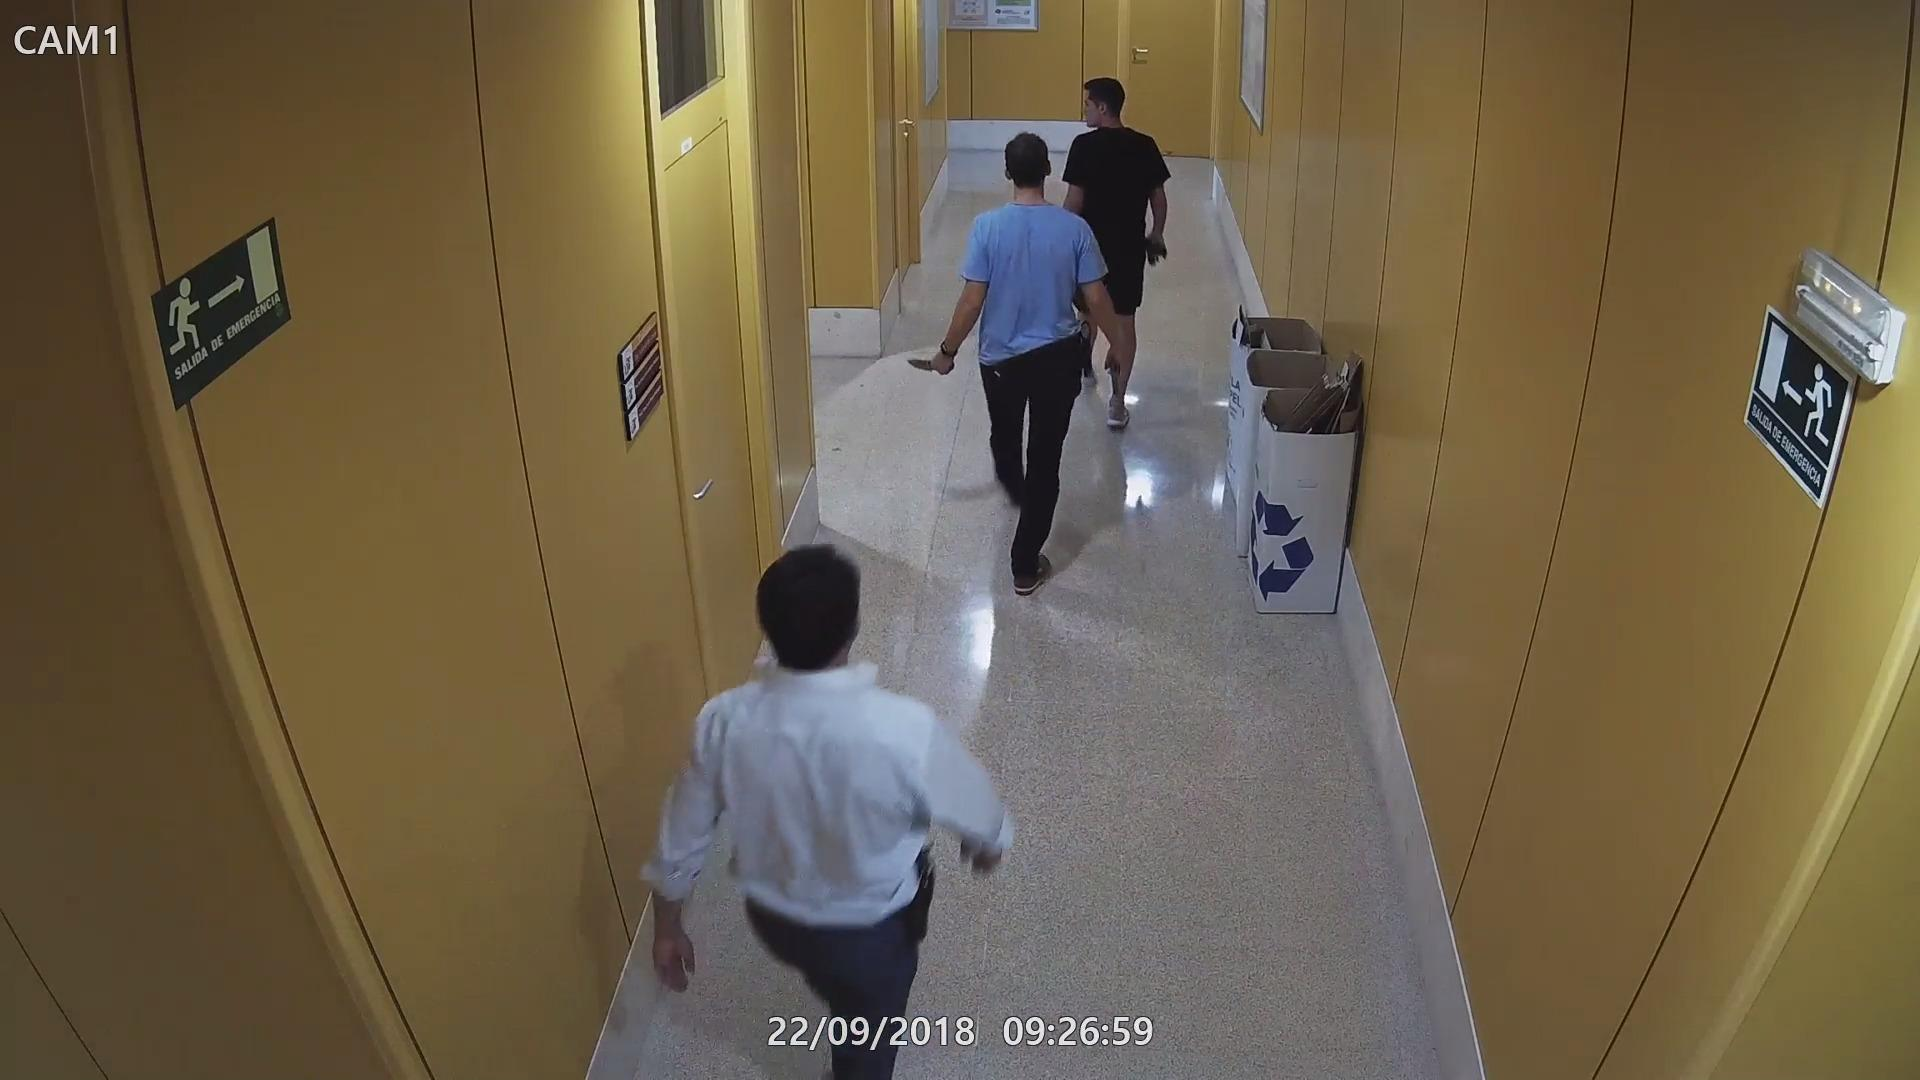Handgun: (1143, 228, 1172, 272)
